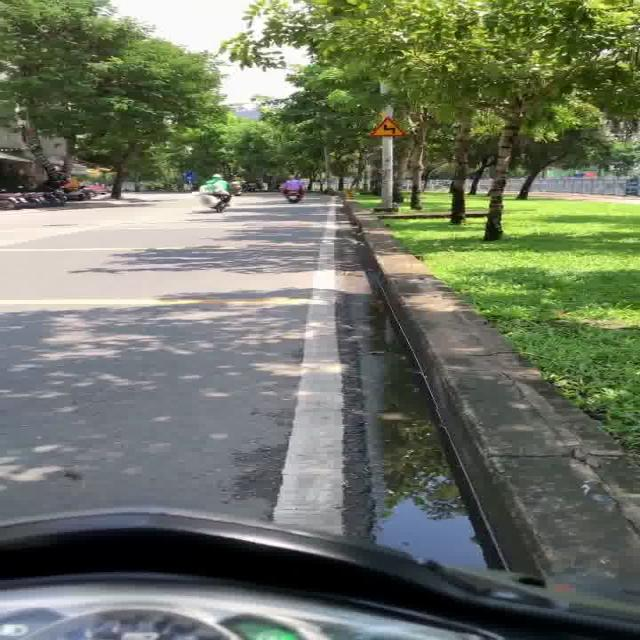Bien bao nhieu cho ngoat nguy hiem lien tiep: (360, 114, 416, 139)
